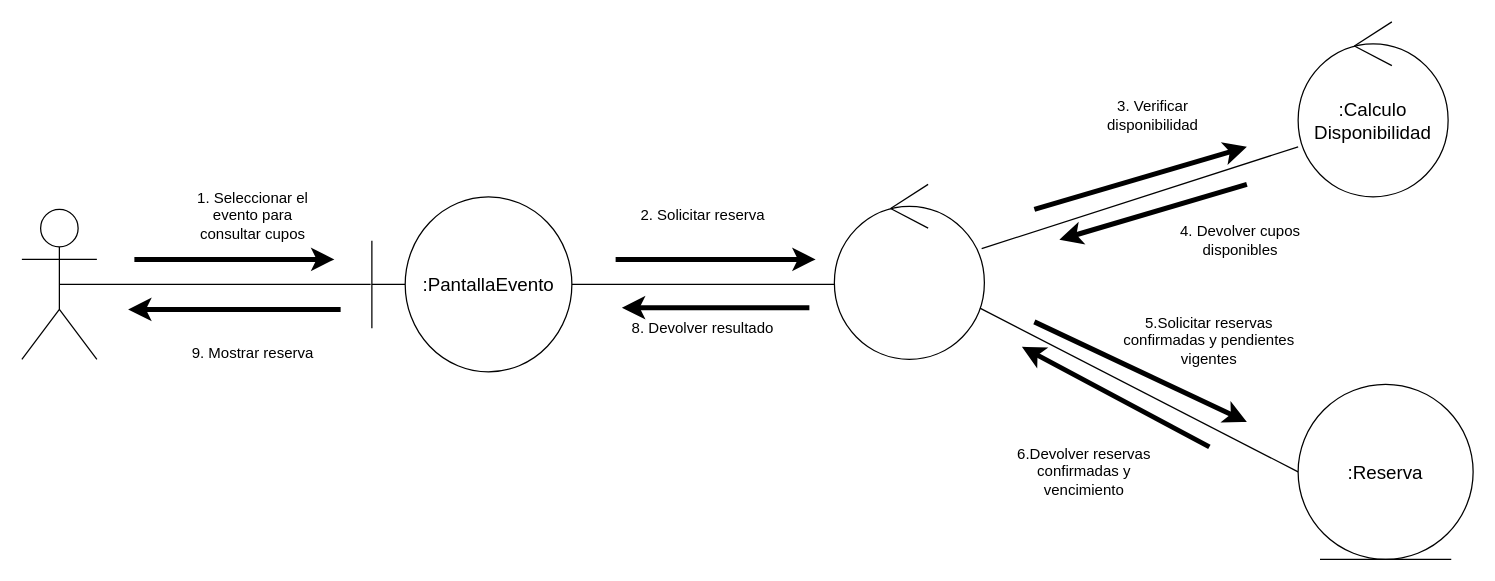
Some shapes in this 1495 by 581 pixel diagram are drawn without their labels. The centre of each missing label's shape, as x and y in pixels:
":Estudiante" goes at [59,283].
":Gestión Reserva" goes at [908,271].
